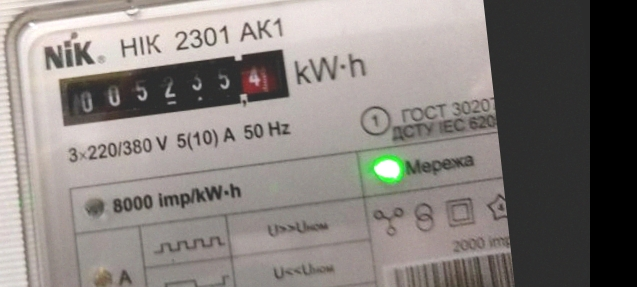0: (76, 87, 94, 113), (104, 82, 122, 107)
2: (158, 72, 177, 99)
3: (185, 66, 204, 92)
4: (242, 59, 264, 90)
5: (213, 62, 231, 91), (132, 76, 148, 102)
screen: (43, 37, 299, 135)
